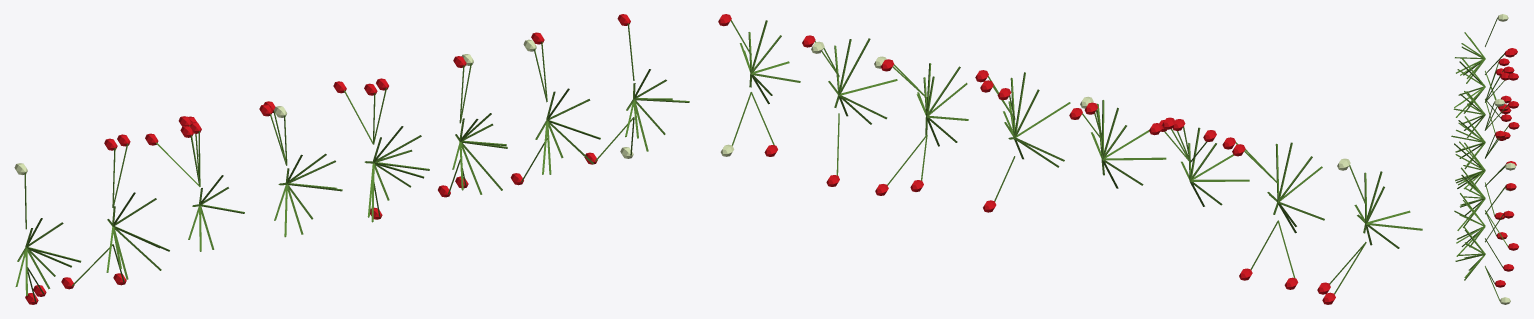
File: r28c2_rest.obj
3 views of the same model, side by side, from view 1: azimuth 30°, elevation 25°; view 2: azimuth 150°, elevation 25°; view 3: azimuth 270°, elevation 25° (orthographic). The views are drawn at different scales.
Visible parts, largest first — view 1: r28c2_rest; view 2: r28c2_rest; view 3: r28c2_rest.
Part boxes in pixels (<box>): r28c2_rest: <box>14,14,689,304</box>; r28c2_rest: <box>718,14,1422,304</box>; r28c2_rest: <box>1451,14,1519,304</box>.
Size of the model in its own units: 1.94 by 0.4052 by 0.2593.
